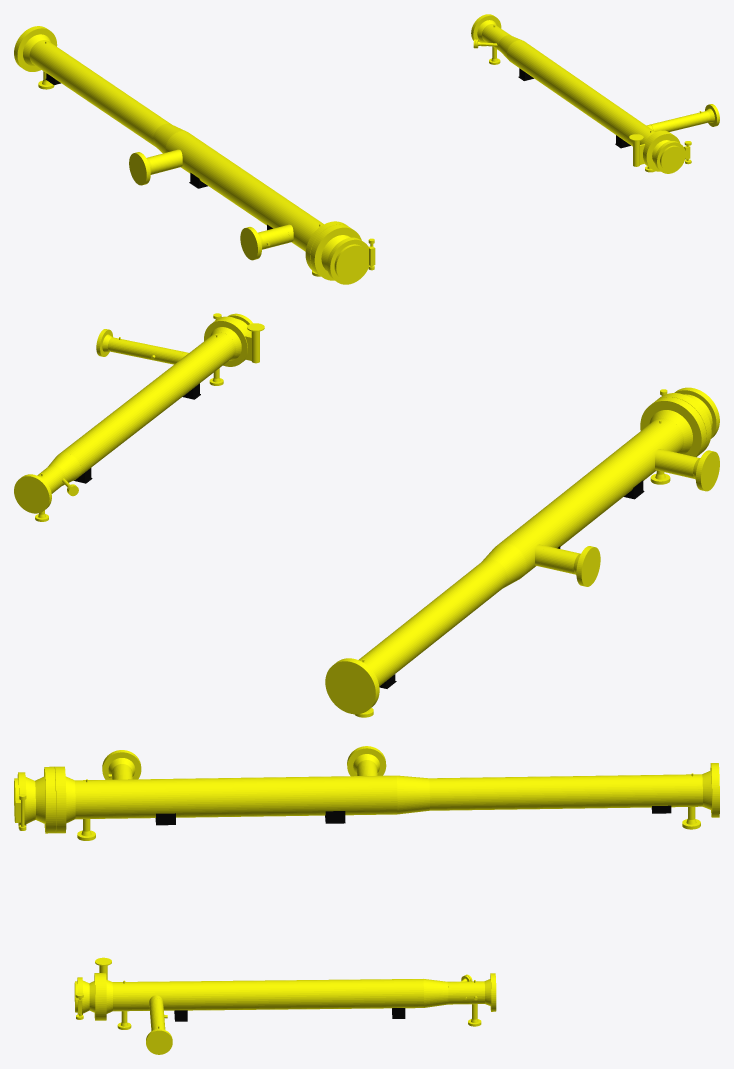
The model's file is modelo.glb.
The picture shows the model from 3 angles, top to bottom: view 1: azimuth 30°, elevation 25°; view 2: azimuth 150°, elevation 25°; view 3: azimuth 270°, elevation 25°; orthographic projection. The views are drawn at different scales.
Parts seen in each view (by area): view 1: Mesh 43996, Mesh 4052; view 2: Mesh 43996, Mesh 4052; view 3: Mesh 43996, Mesh 4052, Mesh 457.
Boxes of the visible parts, x1,y1,x2,y2 form: Mesh 43996: (14,26,375,284); Mesh 4052: (471,14,719,173); Mesh 43996: (325,387,719,717); Mesh 4052: (14,313,264,521); Mesh 43996: (14,746,719,840); Mesh 4052: (74,957,496,1054); Mesh 457: (155,805,671,825).
Bounding box in the file's own units: 10.33 × 1.17 × 11.03.
